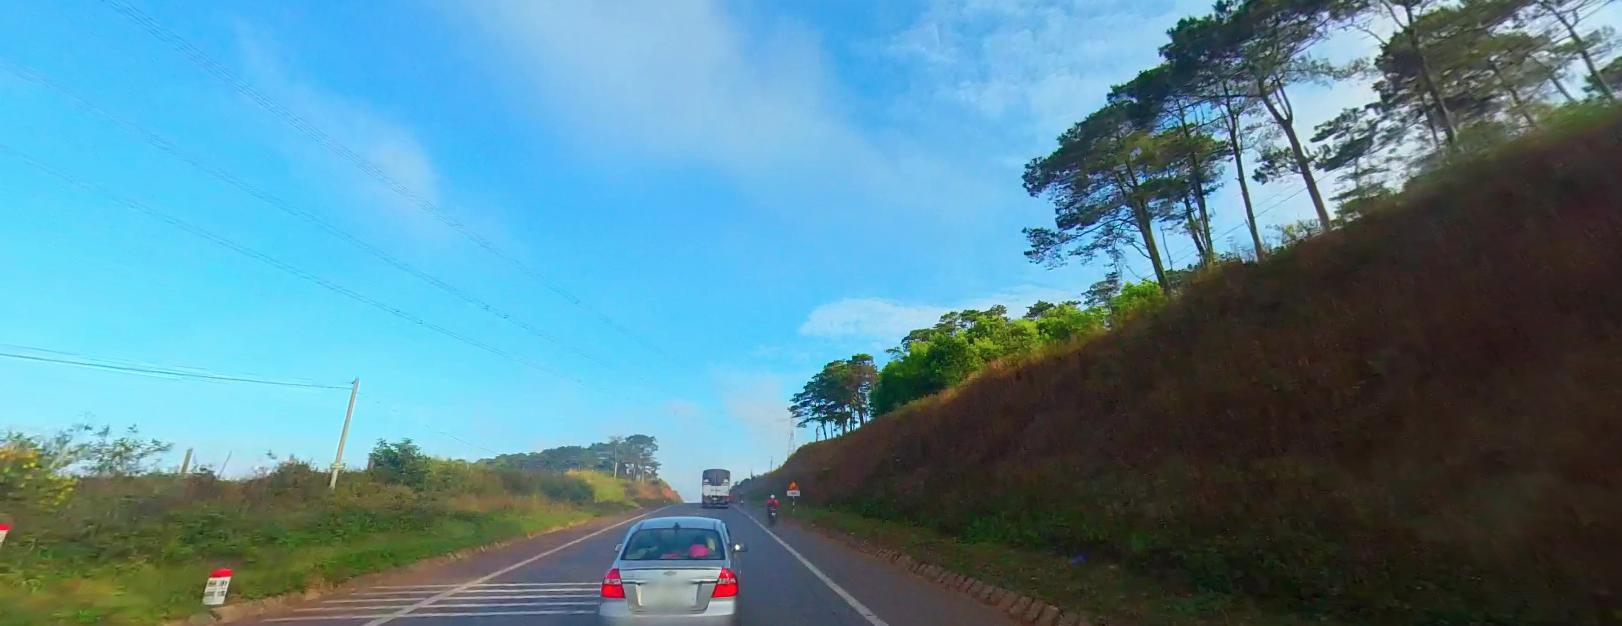Nguy hiem: (787, 479, 798, 489), (787, 479, 799, 488), (788, 479, 798, 488)
